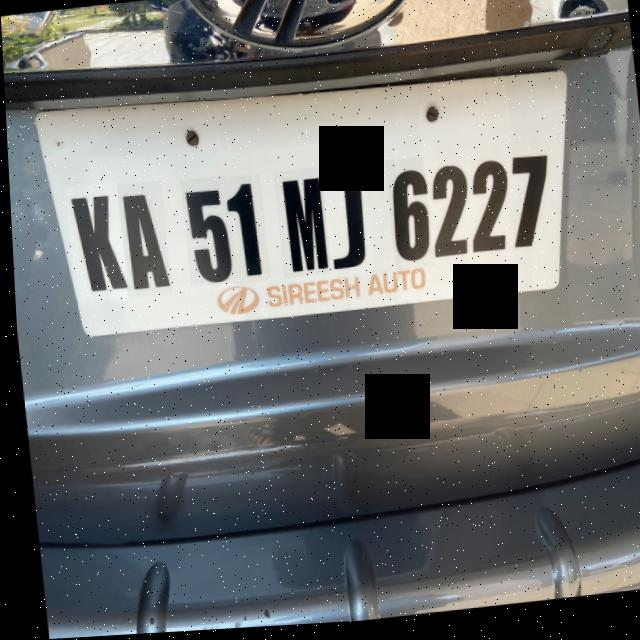1: (223, 177, 268, 289)
5: (178, 178, 233, 290)
6: (382, 161, 432, 276)
7: (504, 151, 555, 267)
A: (115, 181, 169, 301)
J: (319, 166, 371, 278)
K: (63, 183, 126, 307)
M: (272, 171, 329, 284)
